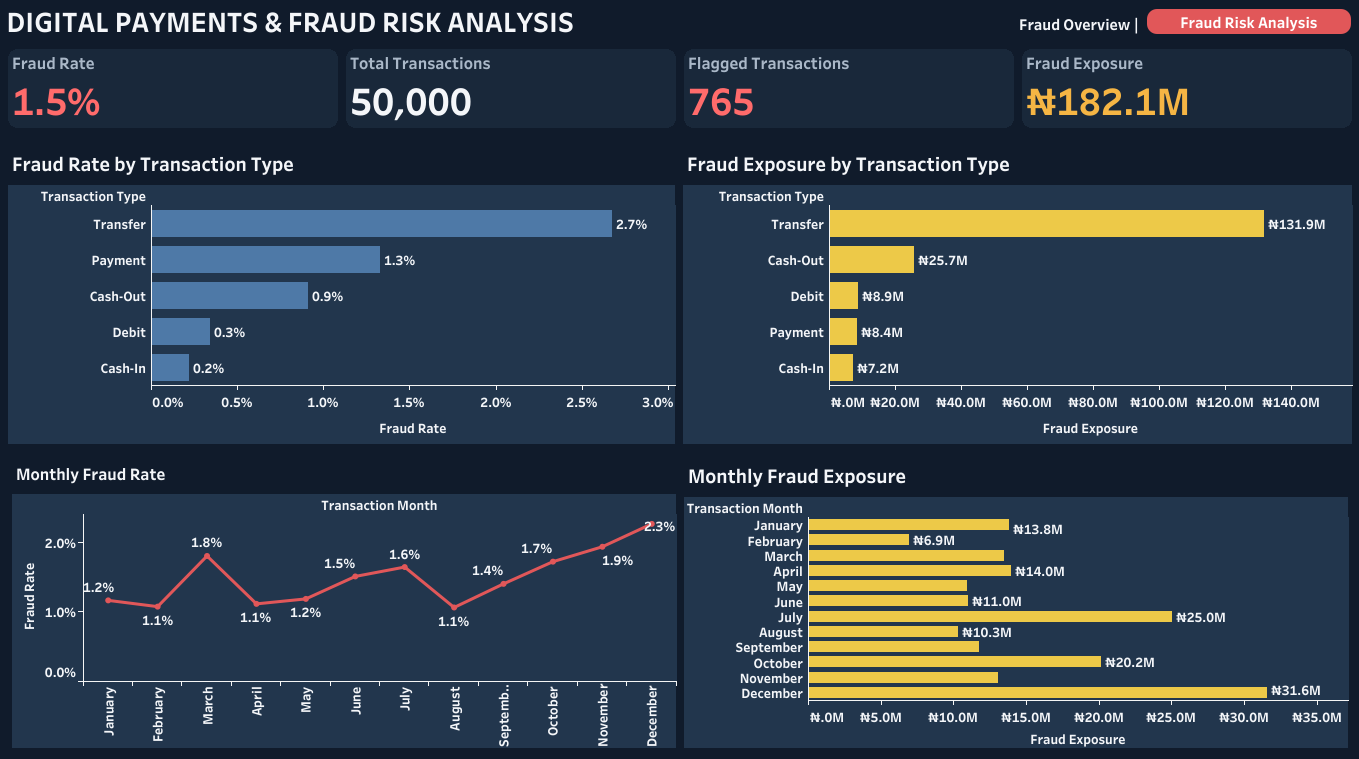

What the dashboard file says about the page in this screenshot:
{"tool":"tableau","page":{"name":"Fraud Overview","canvas":[1360,760],"ordinal":0},"visuals":[{"type":"title","box":[0,0,1360,41]},{"type":"text","box":[956.5,8.6,185.9,28.5]},{"type":"dashboard-object","box":[1146.9,8.6,204,25.6]},{"type":"worksheet","title":"Fraud Rate","mark":"Automatic","box":[4,45,338,87]},{"type":"worksheet","title":"Total Transactions","mark":"Automatic","box":[342,45,338,87]},{"type":"worksheet","title":"Flagged Transactions","mark":"Automatic","box":[680,45,338,87]},{"type":"worksheet","title":"Fraud Exposure","mark":"Automatic","box":[1018,45,338,87]},{"type":"worksheet","title":"Fraud Rate by Transaction Type","mark":"Automatic","rows":["Transaction_Type"],"cols":["fraud_rate"],"box":[4,140,674.5,308]},{"type":"worksheet","title":"Fraud Exposure by Transaction Type","mark":"Automatic","rows":["Transaction_Type"],"cols":["fraudulent_transaction_value"],"box":[678.5,140,677.5,308]},{"type":"worksheet","title":"Monthly Fraud Rate","mark":"Line","rows":["fraud_rate"],"cols":["transaction_month"],"box":[8,452,672,300]},{"type":"worksheet","title":"Monthly Fraud Exposure","mark":"Automatic","rows":["transaction_month"],"cols":["fraudulent_transaction_value"],"box":[680,452,672,300]}]}

Visuals, with their boxes in screenshot pixels (x1, y1, x2, y2), scaled from the page's 1360x760 canvas onto the 1359x759 screenshot:
title: x1=0, y1=0, x2=1358, y2=41
text: x1=956, y1=9, x2=1142, y2=37
dashboard-object: x1=1146, y1=9, x2=1350, y2=34
"Fraud Rate" worksheet: x1=4, y1=45, x2=342, y2=132
"Total Transactions" worksheet: x1=342, y1=45, x2=680, y2=132
"Flagged Transactions" worksheet: x1=680, y1=45, x2=1017, y2=132
"Fraud Exposure" worksheet: x1=1017, y1=45, x2=1355, y2=132
"Fraud Rate by Transaction Type" worksheet: x1=4, y1=140, x2=678, y2=447
"Fraud Exposure by Transaction Type" worksheet: x1=678, y1=140, x2=1355, y2=447
"Monthly Fraud Rate" worksheet (Line marks): x1=8, y1=451, x2=680, y2=751
"Monthly Fraud Exposure" worksheet: x1=680, y1=451, x2=1351, y2=751
